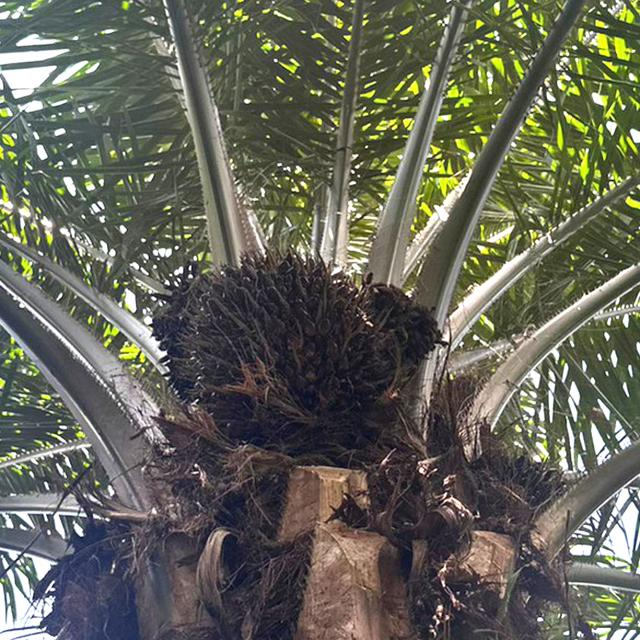ripe: (173, 246, 426, 445)
